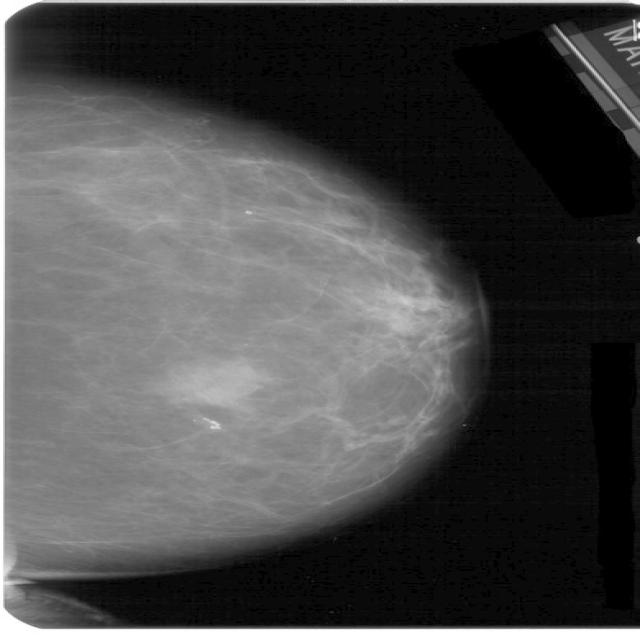tumour: (179, 361, 264, 404)
